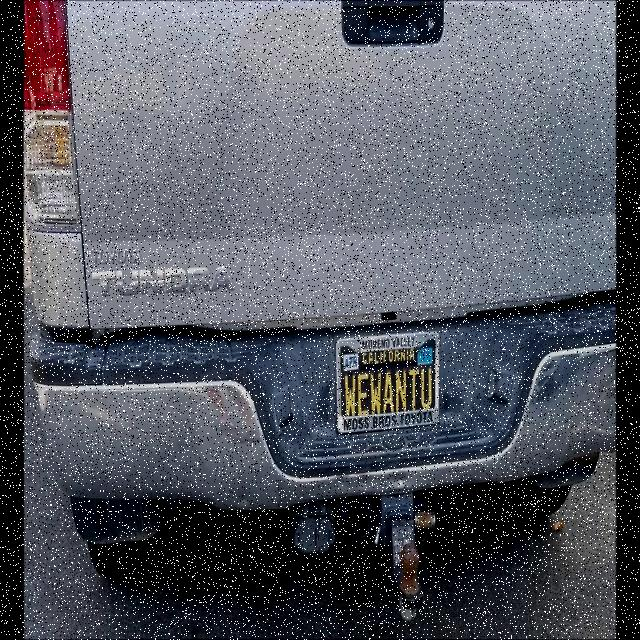licenseplate: (327, 323, 449, 443)
